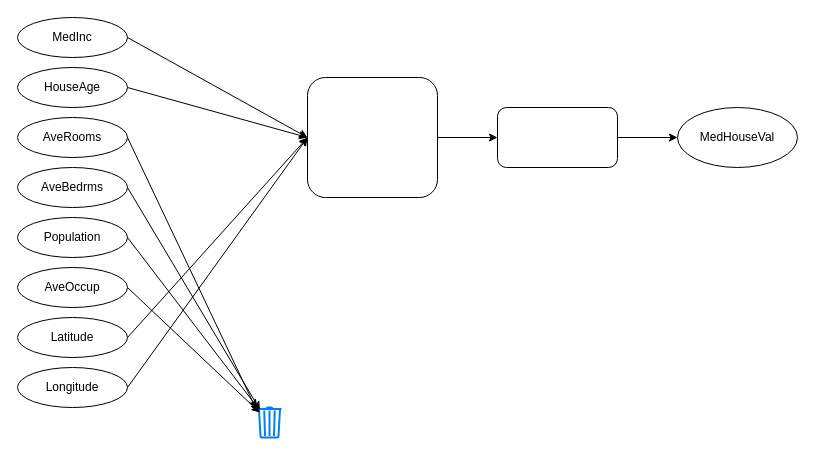
This 815x456 diagram has some shape labels left out. The centre of each missing label's shape, as x and y in pixels:
Drop NaNs or malformed rows: point (372, 137)
Optimized Ordinary Least Squares: point (557, 137)
